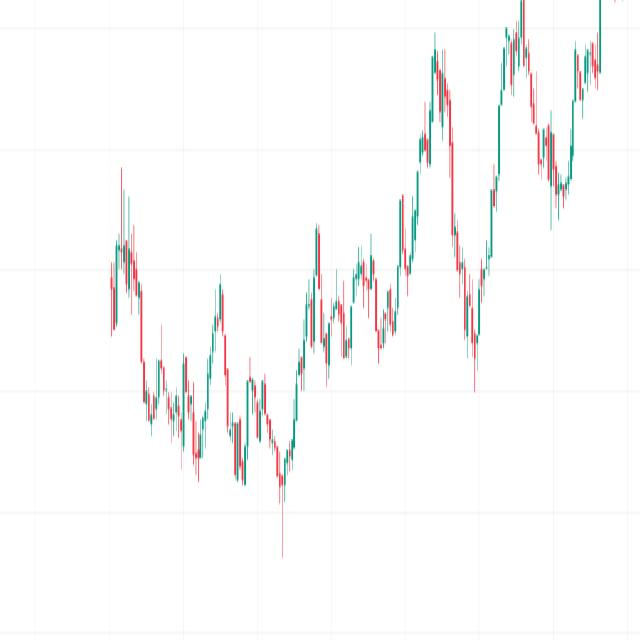Triple-Bottom: (137, 336, 216, 446)
